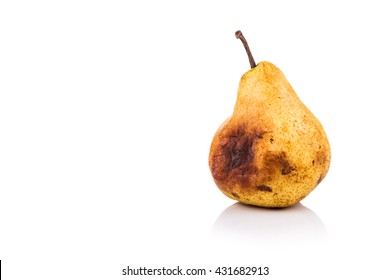pear: (209, 61, 331, 211)
rotten: (210, 121, 296, 199)
